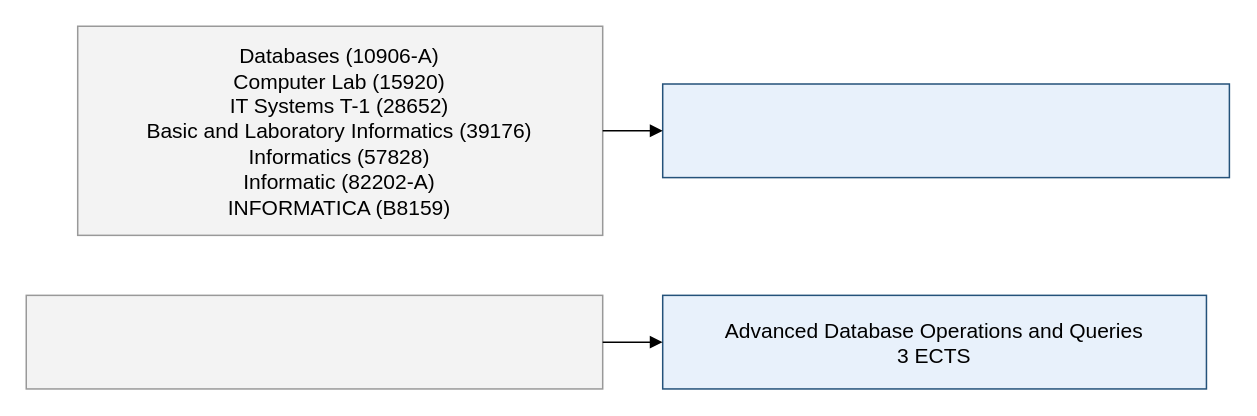
The diagram is 1257 pixels wide and 416 high, and some of its shapes have lost their labels. Here are the shapes that lost their labels. From the top down, the box of each, then its label:
(661, 82, 1229, 178): Database Foundations and Application Access 6 ECTS
(25, 294, 603, 389): Advanced Database Systems (84339) Database and Big Data Technologies M (84530)
